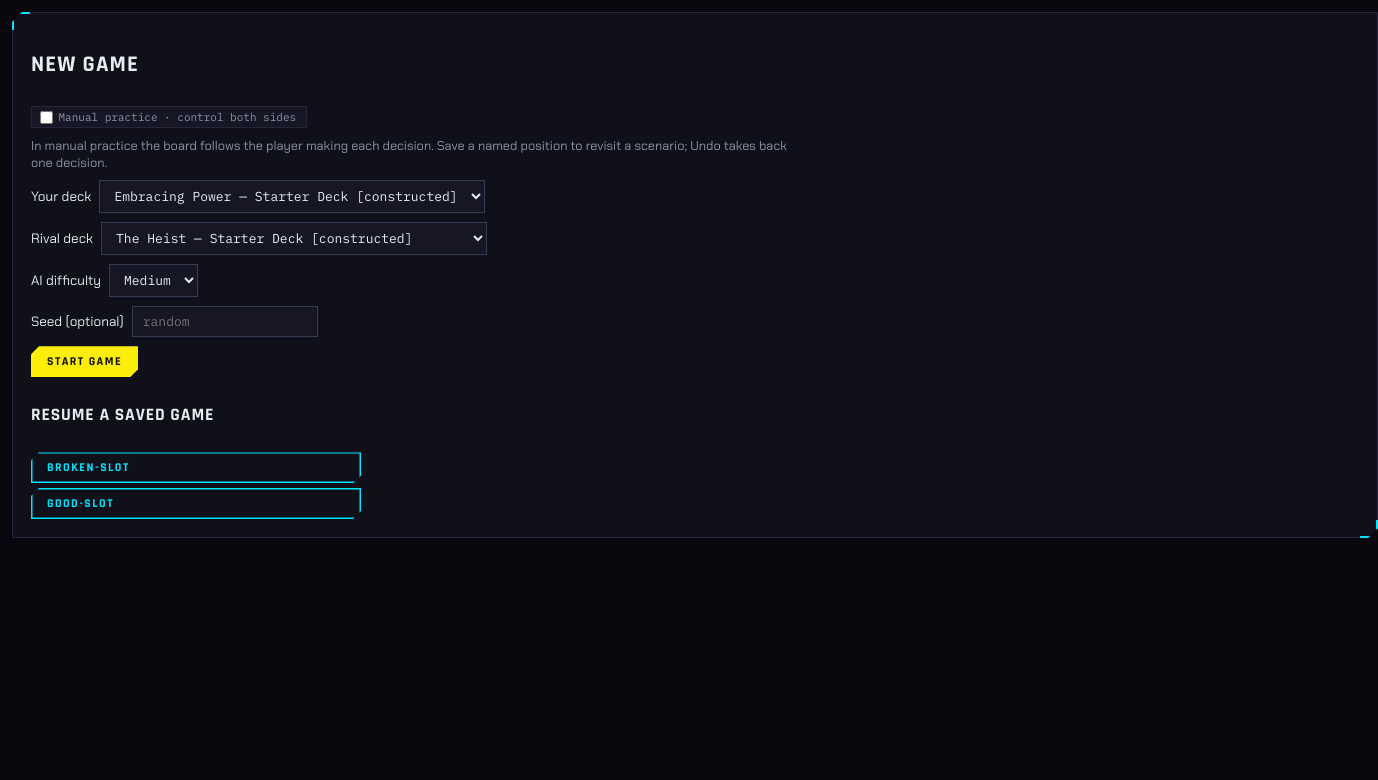
it: PlayView resume error handling › a good save still resumes normally alongside a broken one
Click the button "broken-slot". click: {"x": 88, "y": 468}
box: [31, 452, 361, 483]
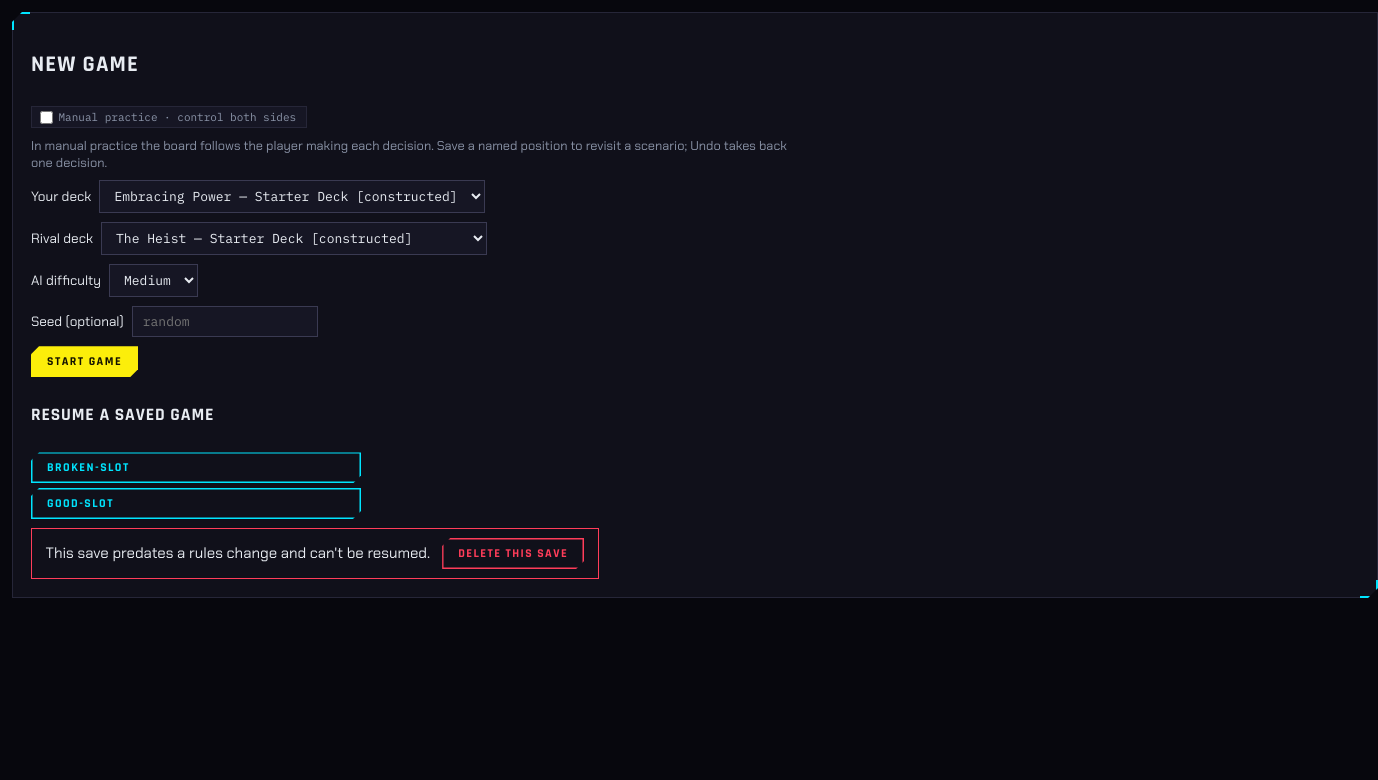
Expected: the message "This save predates a rules change and can't be resumed. Delete this save" is shown, [31, 528, 599, 579]
Click the button with test id "resume-game" showing "good-slot". click: {"x": 80, "y": 503}
box: [31, 488, 361, 519]
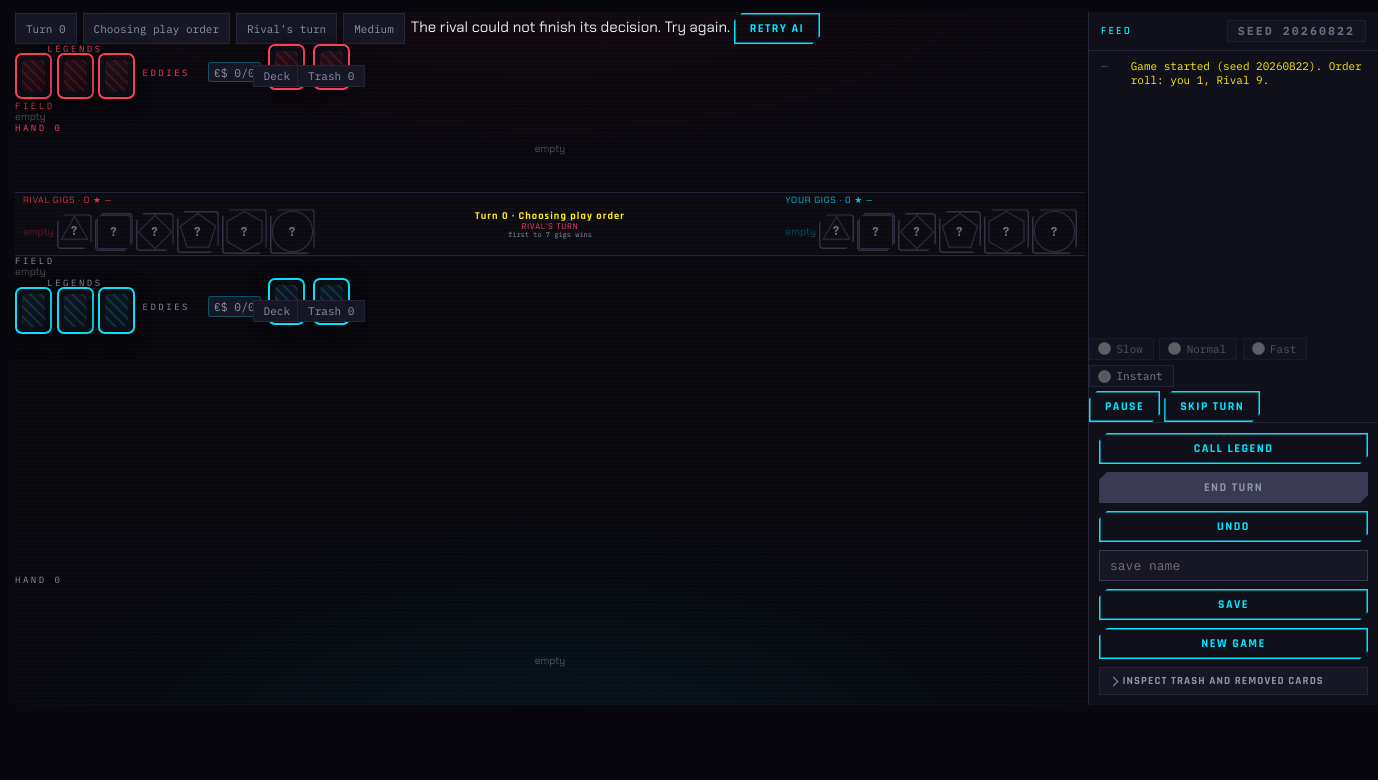
Expected: the element with test id "play-setup" is gone
Expected: the element with test id "playmat" is shown
